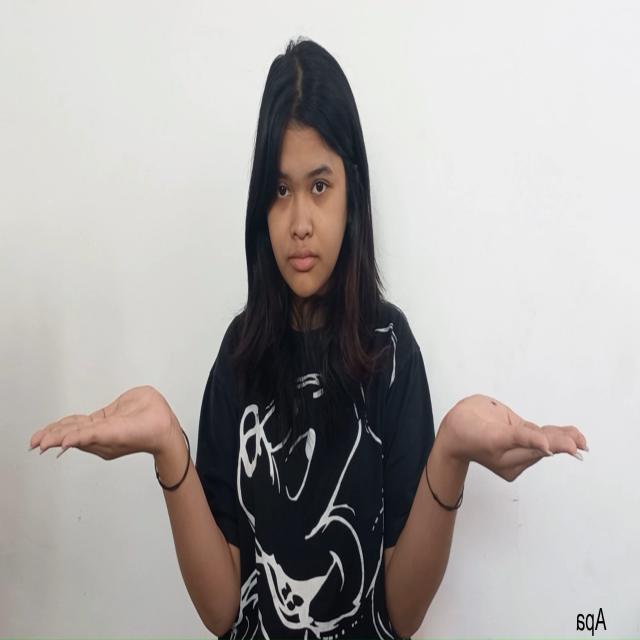Apa -BISINDO-: (24, 384, 591, 486)
